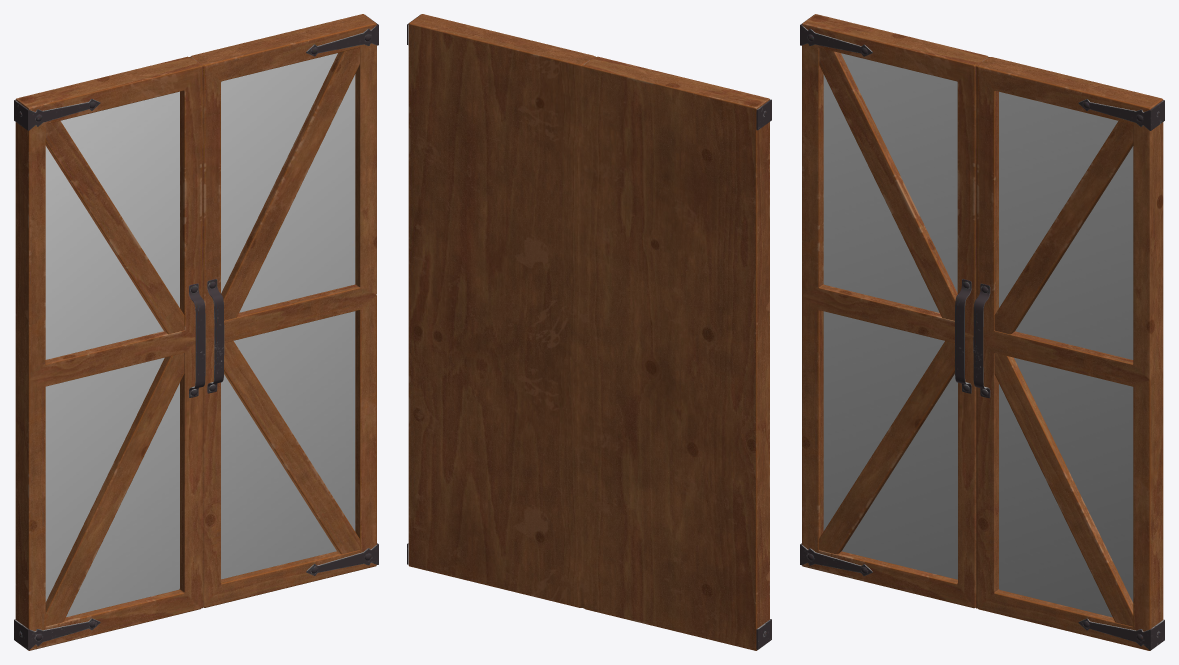
The model's file is mirror_B073WGGXGK.glb.
3 views of the same model, side by side, from view 1: azimuth 30°, elevation 25°; view 2: azimuth 150°, elevation 25°; view 3: azimuth 330°, elevation 25° (orthographic).
Parts seen in each view (by area): view 1: RootNode; view 2: RootNode; view 3: RootNode.
Boxes of the visible parts, box(x1,y1,x2,y2) form: RootNode: box(14, 14, 378, 650); RootNode: box(407, 14, 771, 650); RootNode: box(800, 14, 1164, 650).
Size of the model in its own units: 0.5171 by 0.761 by 0.0525.
Materials: 1 (1 with a texture image).
